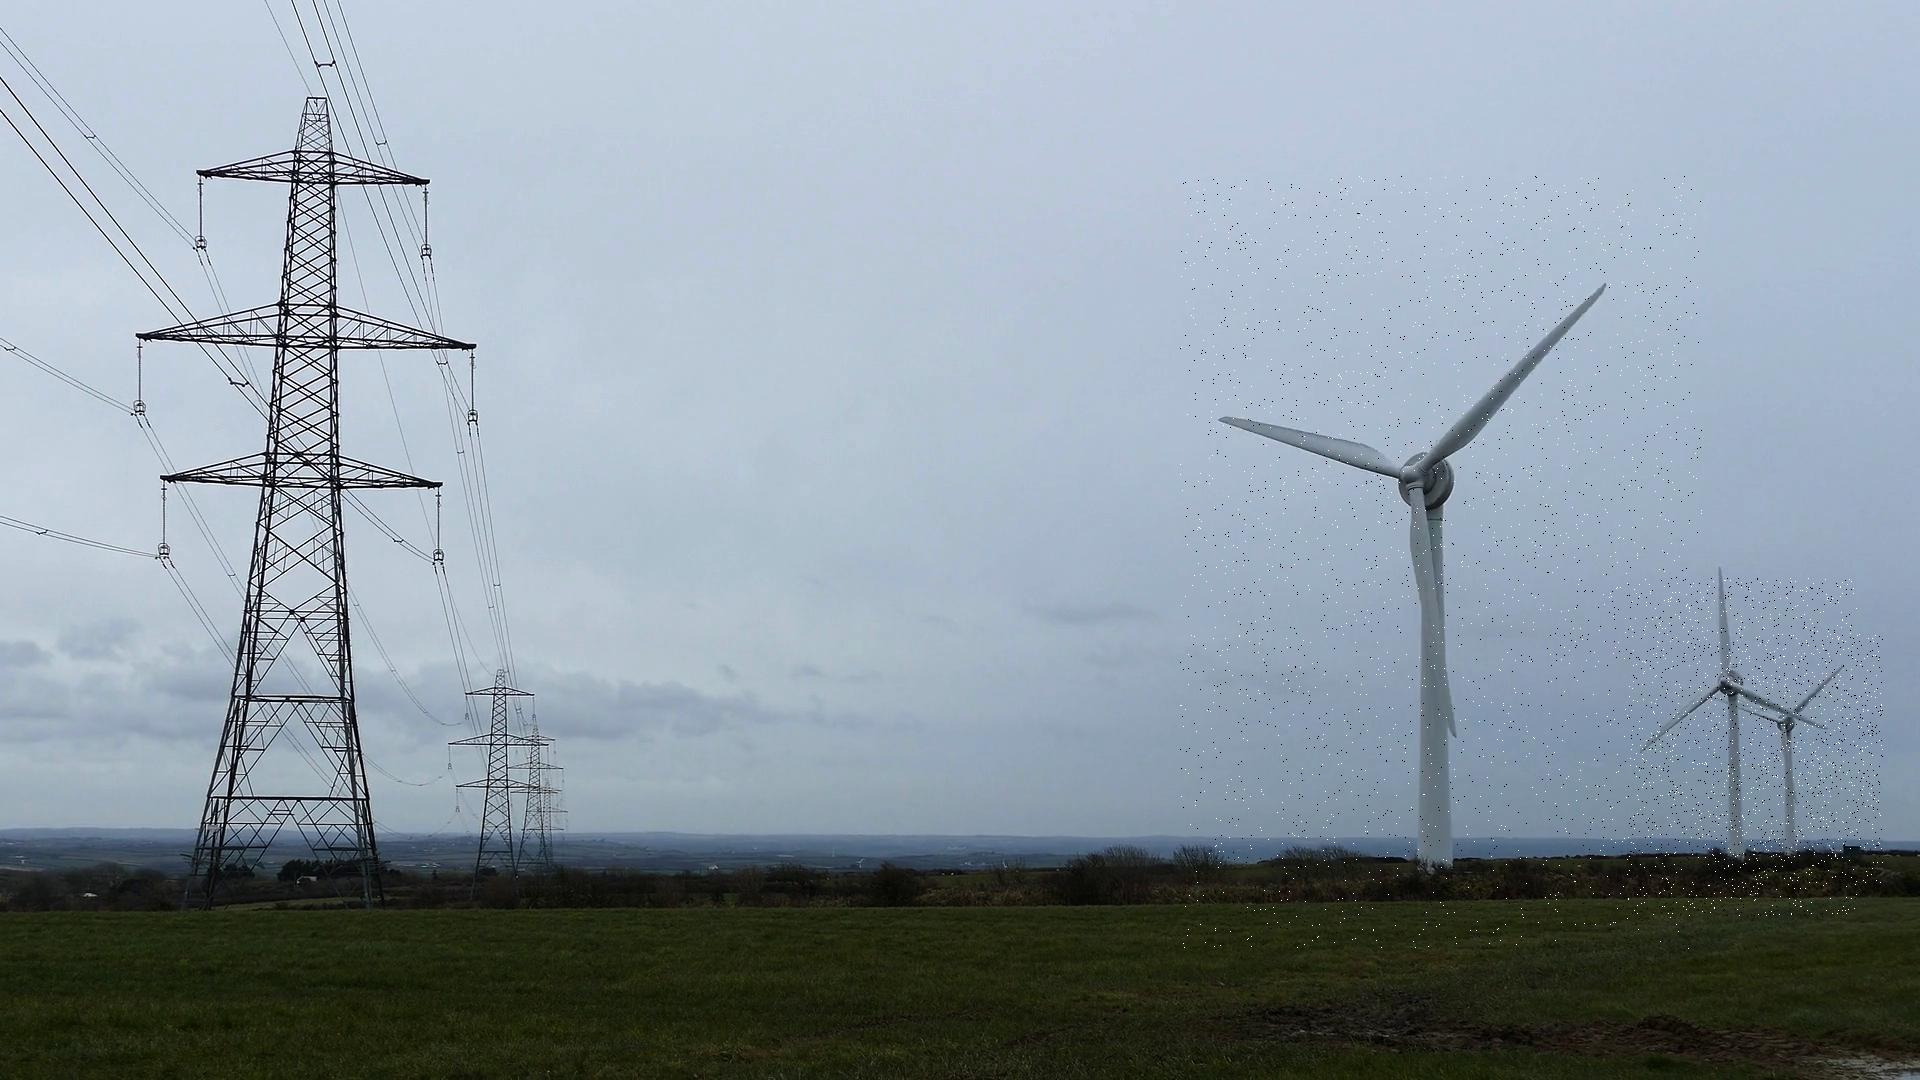cable tower: (132, 94, 477, 913), (447, 669, 549, 903), (506, 727, 564, 876), (530, 783, 567, 864)
turbine: (1180, 175, 1702, 949), (1627, 579, 1857, 918), (1727, 633, 1883, 887)
